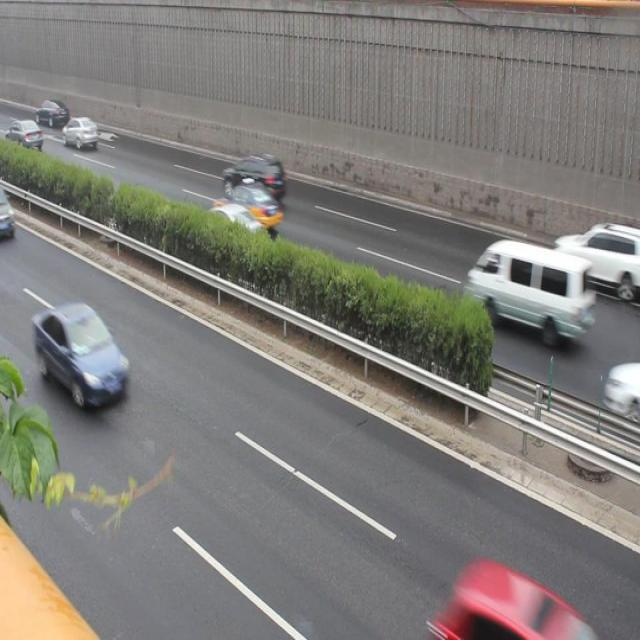car: (446, 562, 587, 640), (32, 302, 131, 407), (553, 220, 640, 298), (196, 203, 263, 254), (213, 181, 281, 227), (223, 153, 286, 197)
truck: (464, 238, 589, 346)
